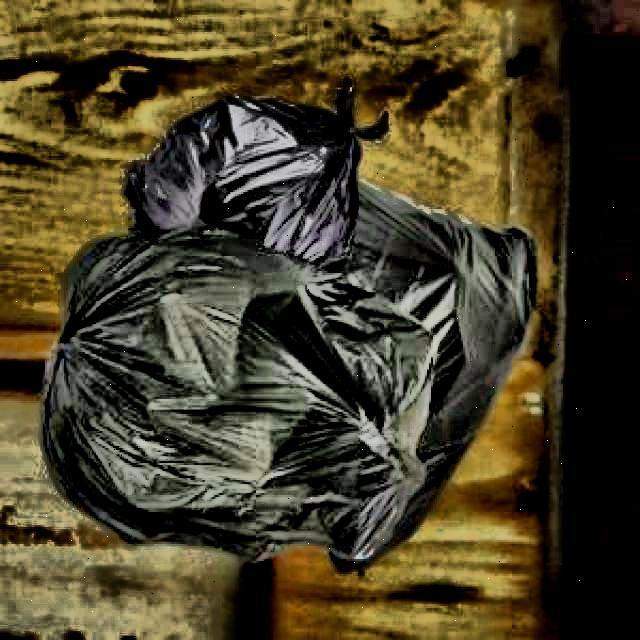Trashbag: (29, 238, 443, 582), (122, 78, 368, 263)
